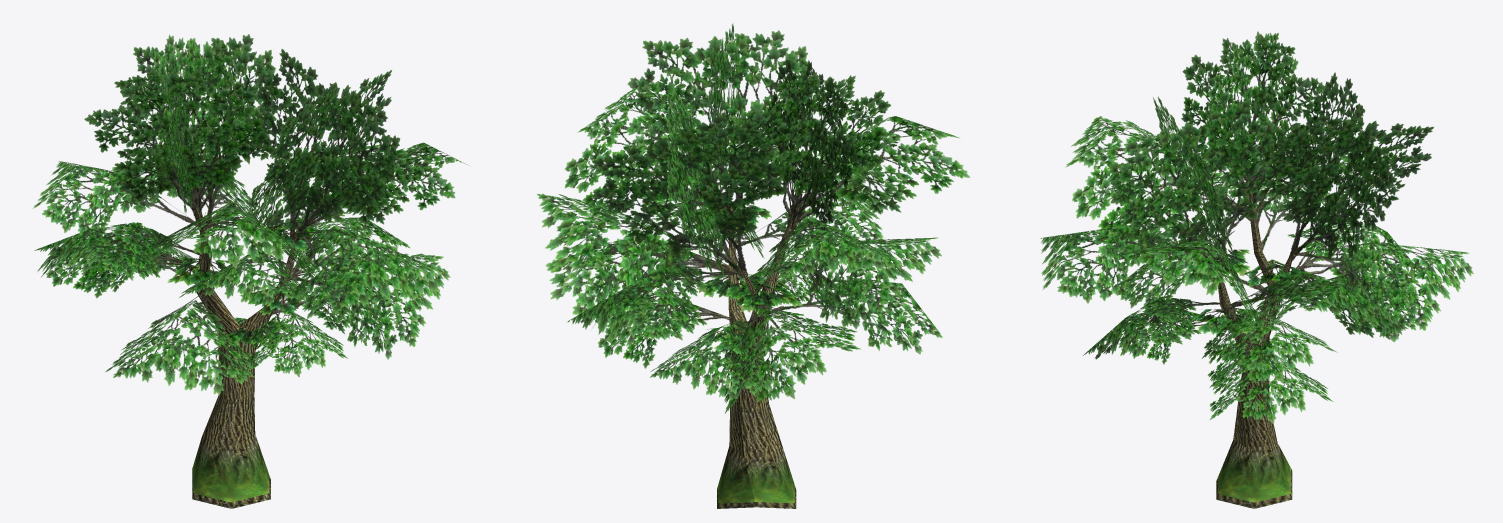
File: TREE_01M.glb
3 renders of one model, left to right at view 1: azimuth 30°, elevation 25°; view 2: azimuth 150°, elevation 25°; view 3: azimuth 270°, elevation 25°, orthographic. The views are drawn at different scales.
Visible parts, largest first — view 1: TREE_01M-col; view 2: TREE_01M-col; view 3: TREE_01M-col.
Boxes of the visible parts, x1,y1,x2,y2 form: TREE_01M-col: [32, 34, 468, 508]; TREE_01M-col: [537, 23, 969, 508]; TREE_01M-col: [1040, 31, 1473, 508].
Bounding box in the file's own units: 11.03 × 11.77 × 11.05.
Materials: 5 (5 with a texture image).
